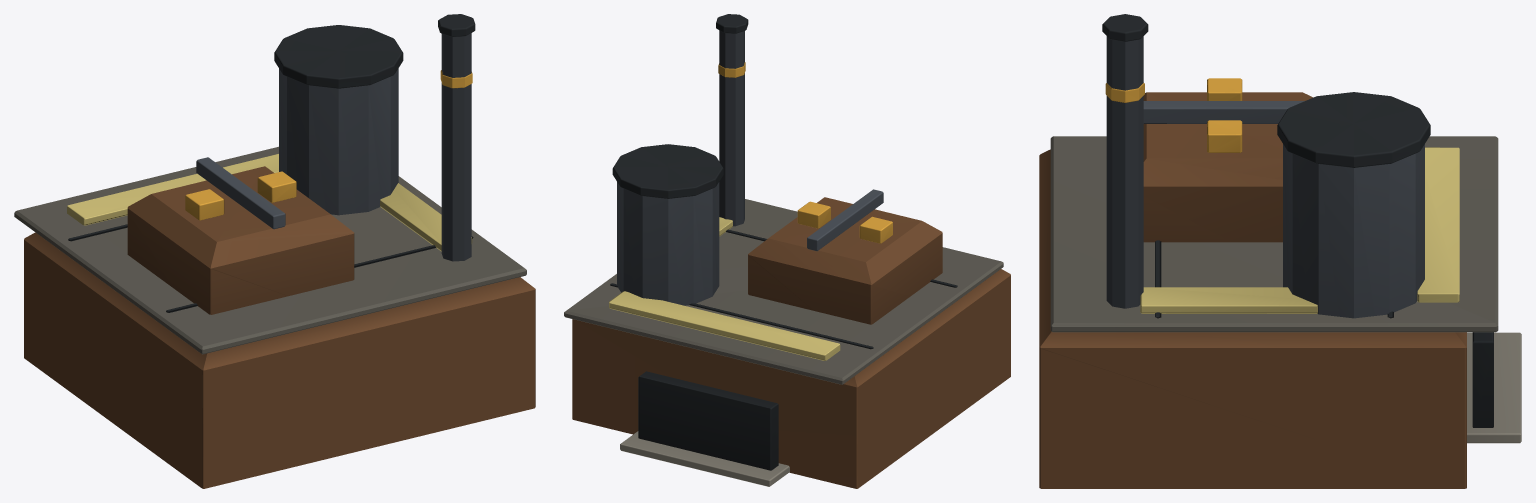
Rendered from refinery.glb.
The picture shows the model from 3 angles, left to right: view 1: azimuth 30°, elevation 25°; view 2: azimuth 150°, elevation 25°; view 3: azimuth 270°, elevation 25°; orthographic projection. The views are drawn at different scales.
Visible parts, largest first — view 1: Body; view 2: Body; view 3: Body.
Part boxes in pixels (x1=…): Body: x1=14, y1=14, x2=535, y2=488; Body: x1=564, y1=14, x2=1010, y2=488; Body: x1=1039, y1=14, x2=1521, y2=488.
Size of the model in its own units: 6.44 by 6.86 by 6.79.
